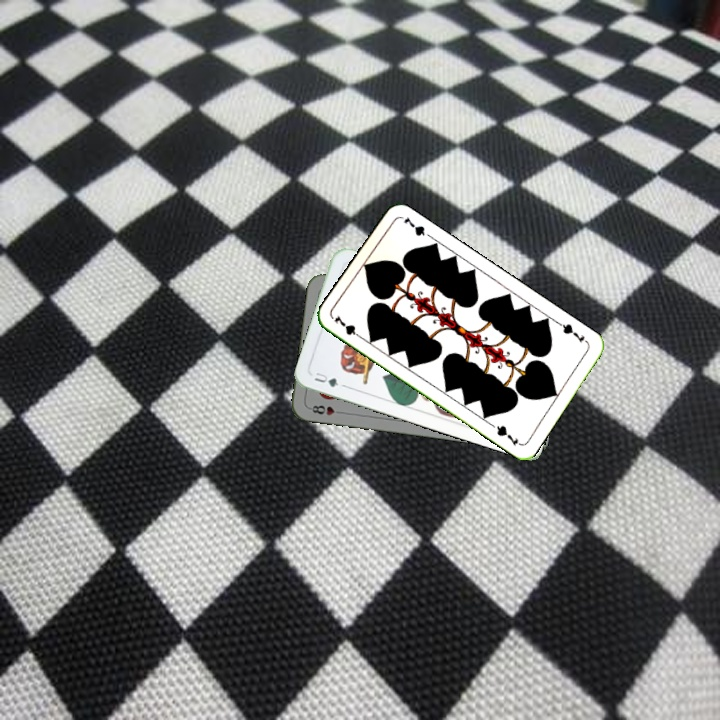G7: (329, 311, 366, 342), (554, 319, 587, 346)
GU: (310, 368, 341, 390)
H8: (305, 401, 346, 418)
